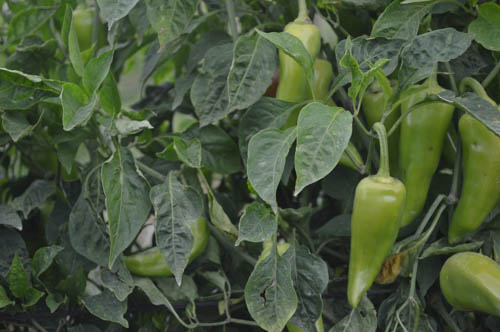ChiliPepper: (346, 180, 406, 310), (400, 84, 454, 226), (452, 104, 494, 246), (311, 58, 358, 168), (119, 221, 205, 279), (273, 23, 319, 131), (435, 248, 498, 318), (362, 86, 397, 154), (67, 8, 103, 47)
